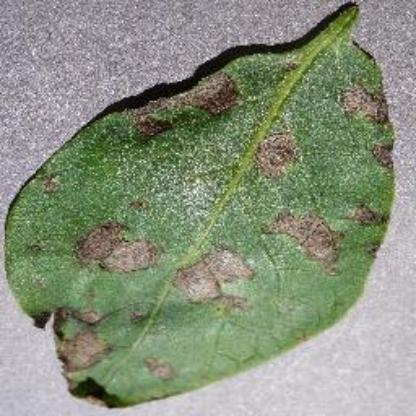Early-Blight: (6, 6, 400, 406)
